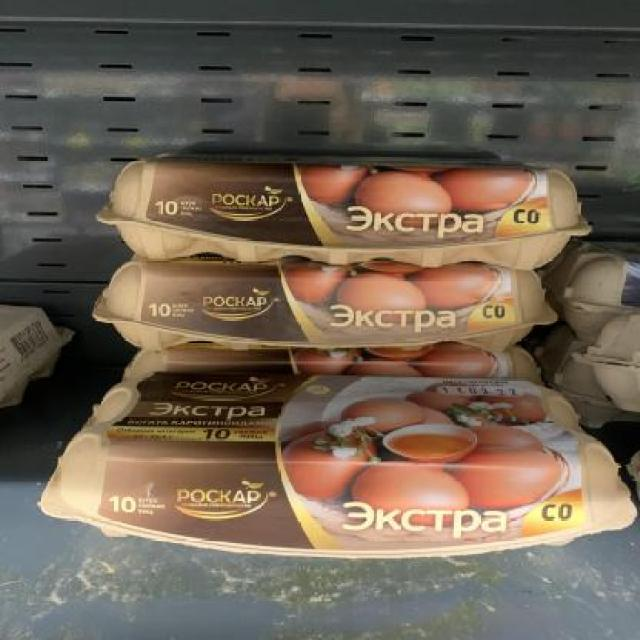Egg: (34, 371, 640, 564), (86, 152, 600, 268), (87, 262, 561, 352), (0, 304, 77, 411), (566, 226, 640, 337)
